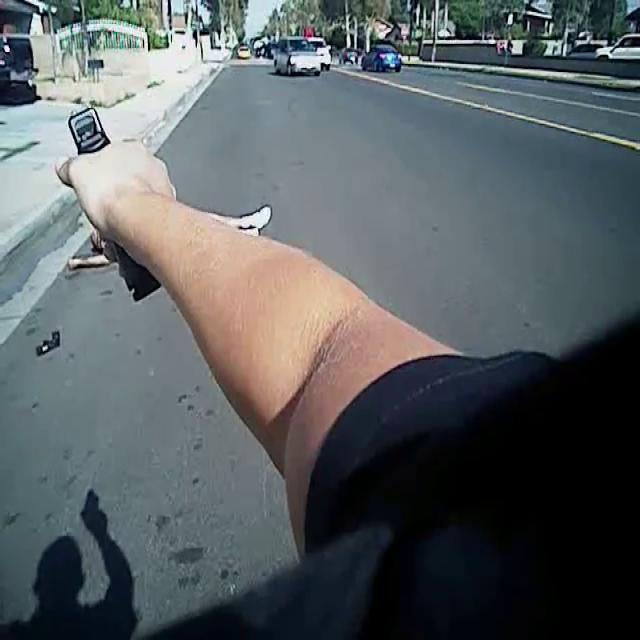gun: (44, 94, 180, 302)
